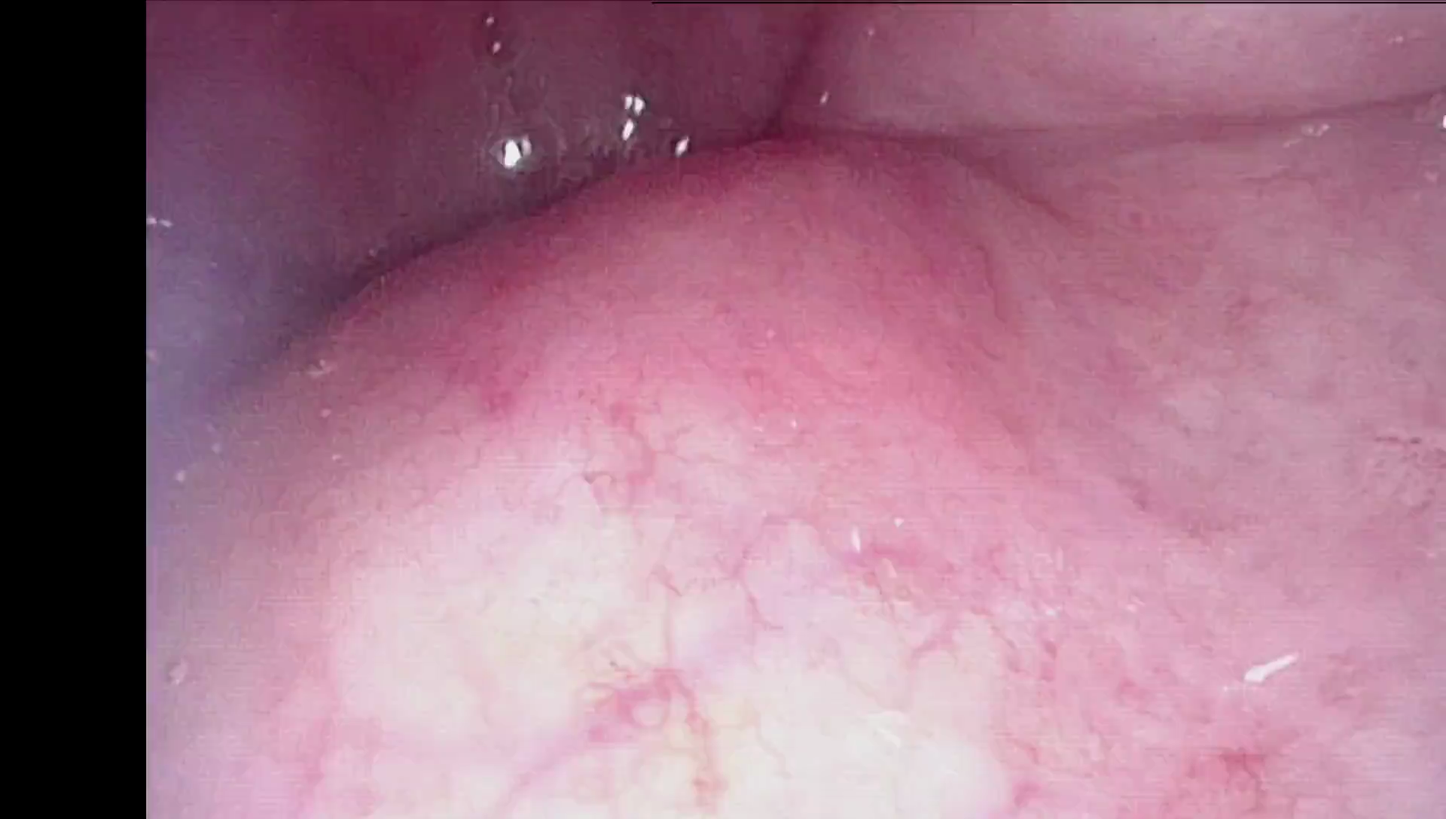close_wall: (258, 363, 1148, 819)
